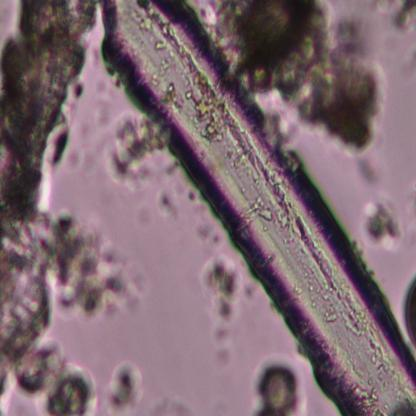Background material: (0, 0, 103, 351), (229, 0, 387, 161), (35, 205, 160, 332), (21, 346, 109, 416), (109, 123, 175, 196), (198, 253, 248, 347), (252, 356, 306, 416), (360, 196, 404, 249), (108, 362, 143, 408), (382, 0, 416, 35), (356, 154, 384, 184), (158, 194, 180, 218)
Diatom: (402, 279, 416, 342)
Microfibre: (99, 0, 416, 416)
